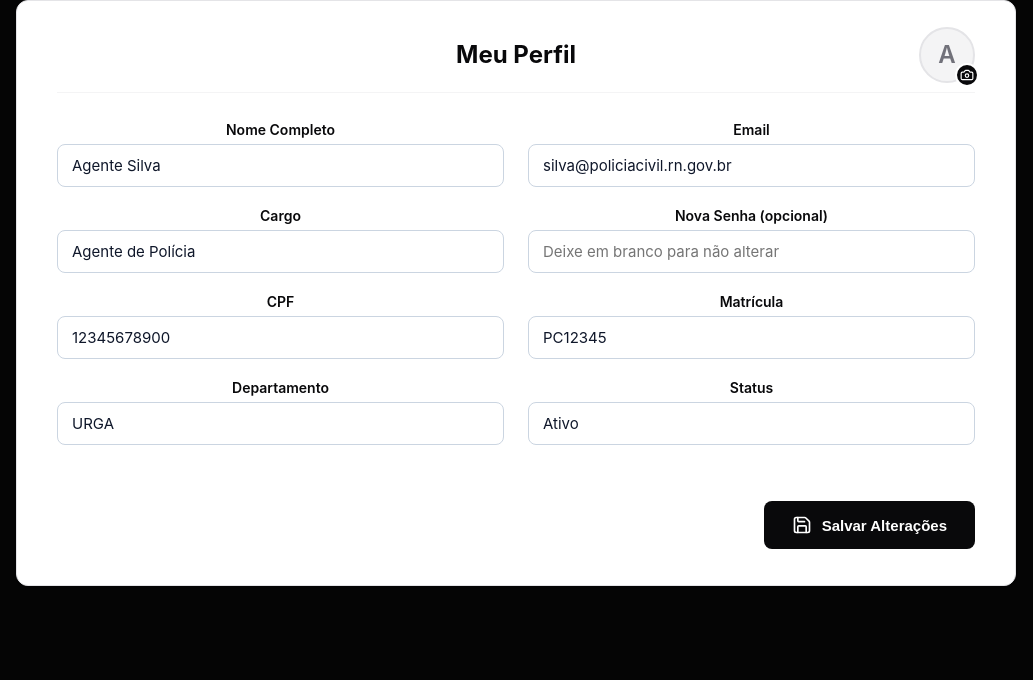
Test: PerfilContainer › deve exibir mensagem de erro se a atualização falhar
Check: the field showing "Agente Silva" is shown, box 57,144 -> 504,187
What coordinates should you click on to do the following:
click the button "Salvar Alterações"
I would click on:
 (869, 525)
Its box is 764,501 -> 975,549.
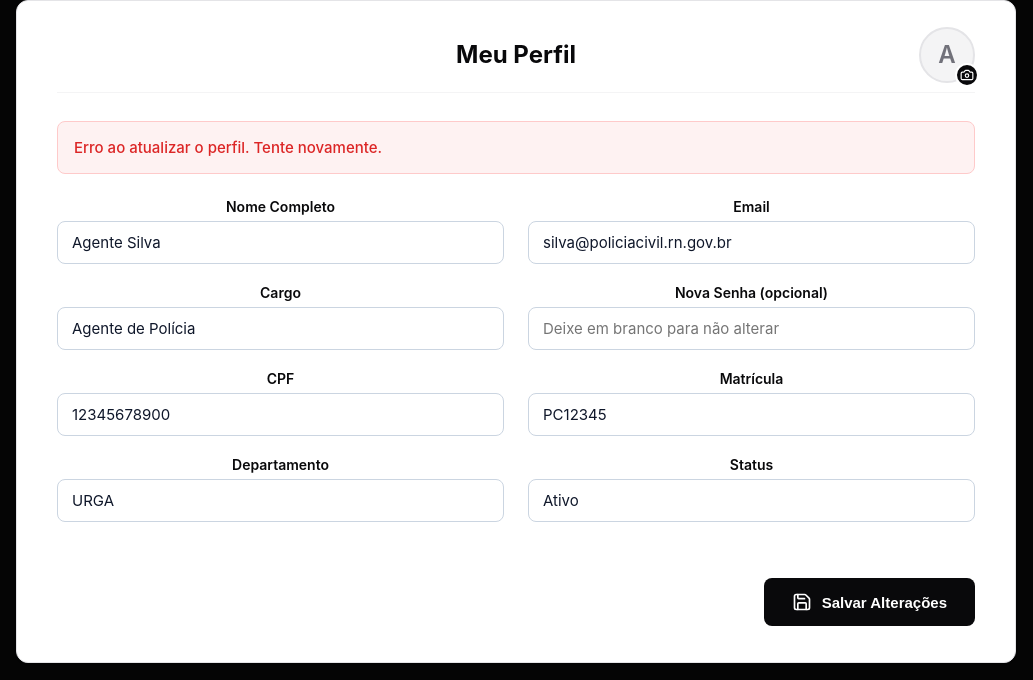
Check: the message reads "Erro ao atualizar o perfil. Tente novamente.", box 74,138 -> 382,157
